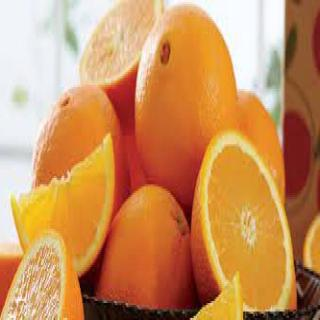orange: (134, 3, 246, 201), (190, 124, 300, 312), (5, 120, 116, 292), (90, 165, 200, 320)
